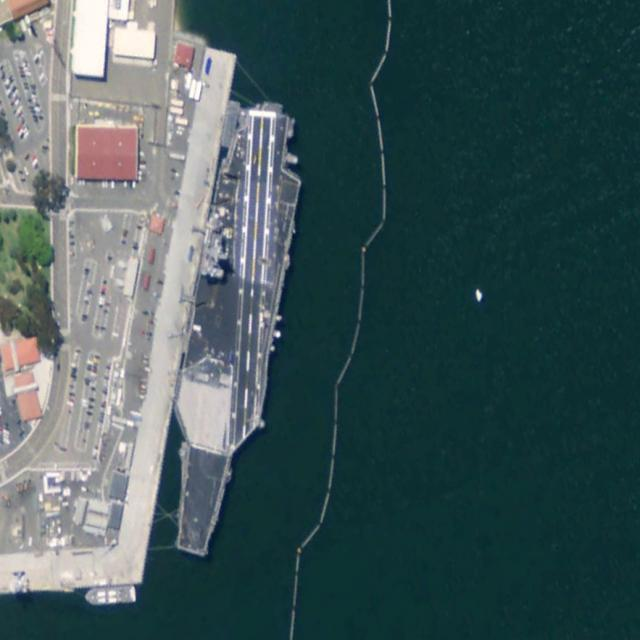Aircraft Carrier: (151, 89, 314, 565)
